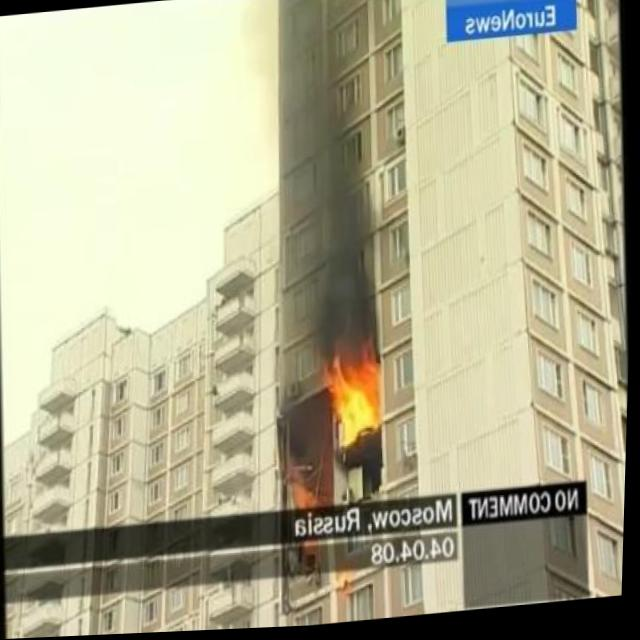fire: (317, 352, 388, 447), (286, 475, 329, 514)
